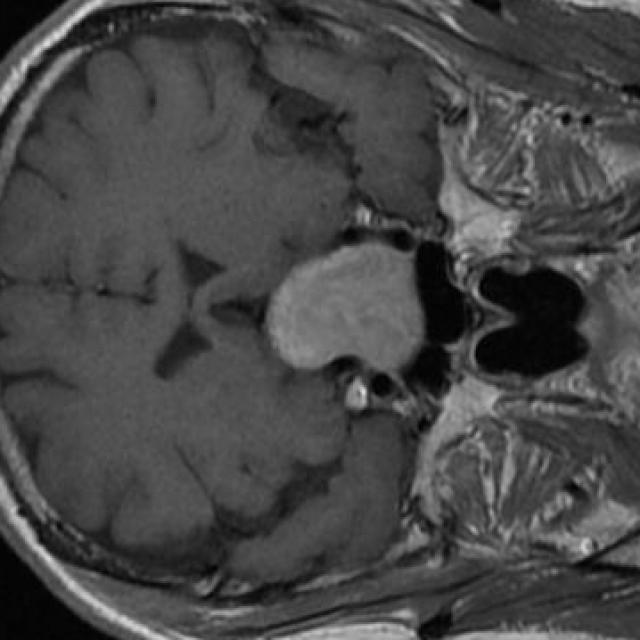pituitary: (264, 242, 424, 371)
